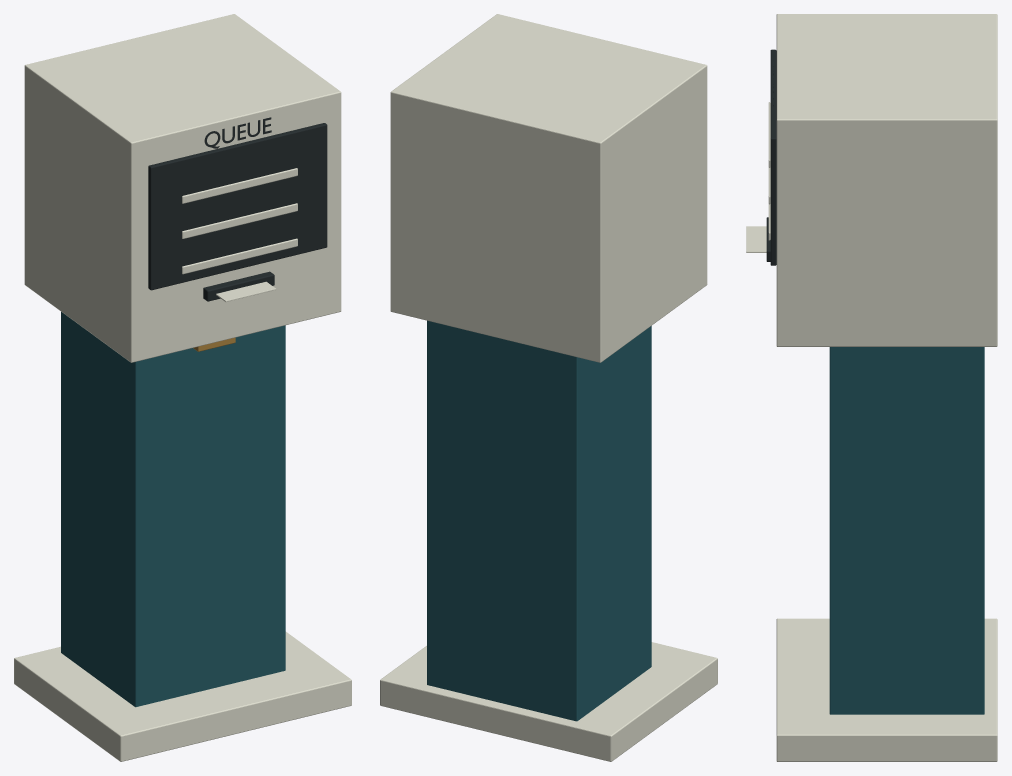
Rendered from bank-queue-ticket-machine.glb.
3 views of the same model, side by side, from view 1: azimuth 30°, elevation 25°; view 2: azimuth 150°, elevation 25°; view 3: azimuth 270°, elevation 25° (orthographic). The views are drawn at different scales.
Parts seen in each view (by area): view 1: Pedestal, Head, Display, Foot, Interface_Line.002, Interface_Line, Interface_Line.001, Ticket_Slot, Paper; view 2: Head, Pedestal, Foot; view 3: Head, Pedestal, Foot, Display, Paper.
Part boxes in pixels (bbox=[...]): Pedestal: bbox=[61, 312, 285, 707]; Head: bbox=[24, 14, 341, 362]; Display: bbox=[148, 123, 327, 290]; Foot: bbox=[14, 631, 351, 761]; Interface_Line.002: bbox=[182, 238, 297, 274]; Interface_Line: bbox=[182, 168, 297, 203]; Interface_Line.001: bbox=[182, 203, 297, 238]; Ticket_Slot: bbox=[203, 271, 274, 301]; Paper: bbox=[216, 281, 276, 301]; Head: bbox=[390, 14, 707, 362]; Pedestal: bbox=[427, 320, 651, 721]; Foot: bbox=[380, 642, 717, 761]; Head: bbox=[776, 14, 997, 346]; Pedestal: bbox=[829, 347, 984, 714]; Foot: bbox=[776, 618, 997, 761]; Display: bbox=[770, 49, 776, 265]; Paper: bbox=[746, 226, 766, 252].
Bounding box in the file's own units: 0.55 × 1.4 × 0.5.
